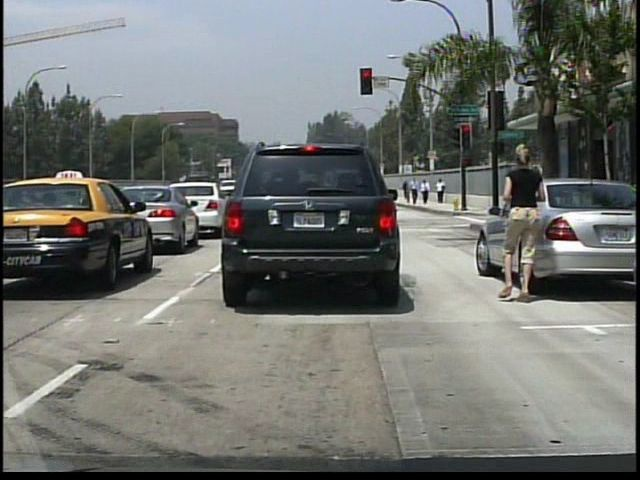person: (502, 133, 552, 310), (435, 177, 446, 204), (411, 177, 421, 205), (421, 178, 430, 205), (403, 179, 412, 201)
